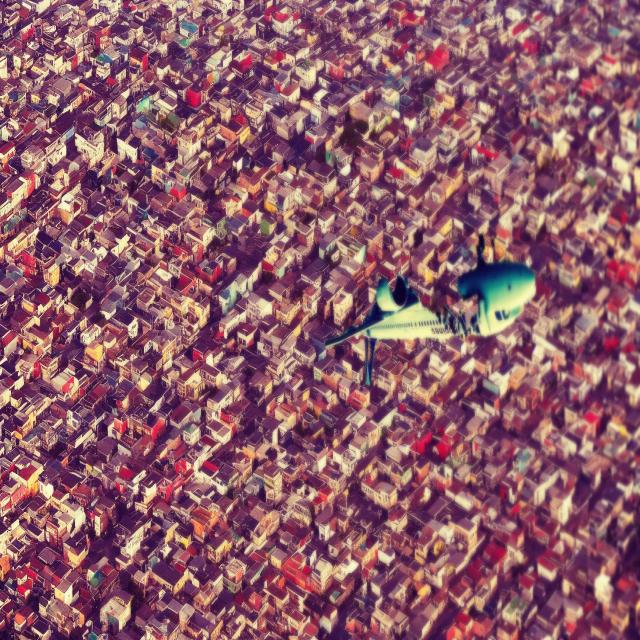airplane: (320, 231, 536, 387)
